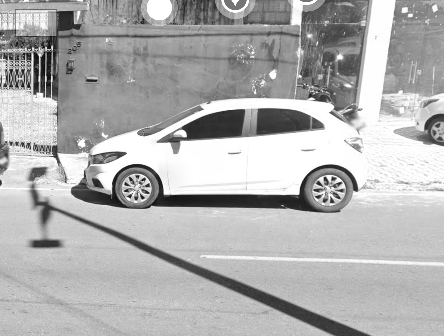car: (82, 94, 376, 220)
